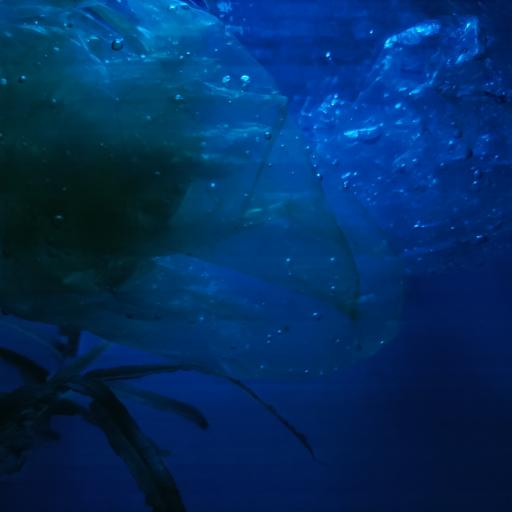plastic_bag: (0, 0, 407, 385), (191, 0, 512, 378)
